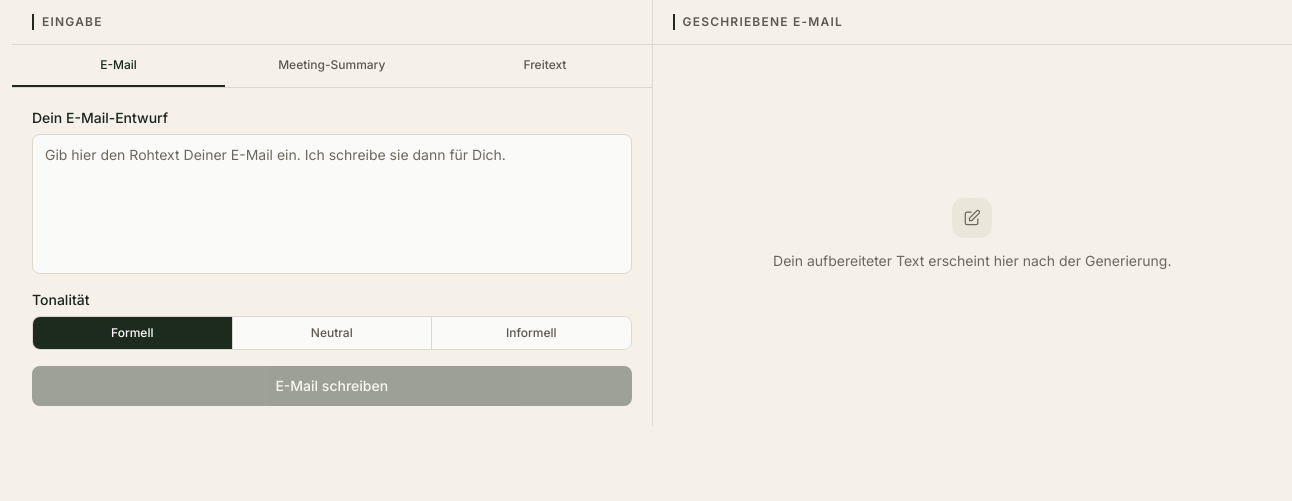
Test: TextPolisherPage — Clear › löscht Input und sessionStorage
The image size is (1292, 501).
In the text box labelled "Dein E-Mail-Entwurf": (332, 204) [32,134,632,274], type "Inhalt"
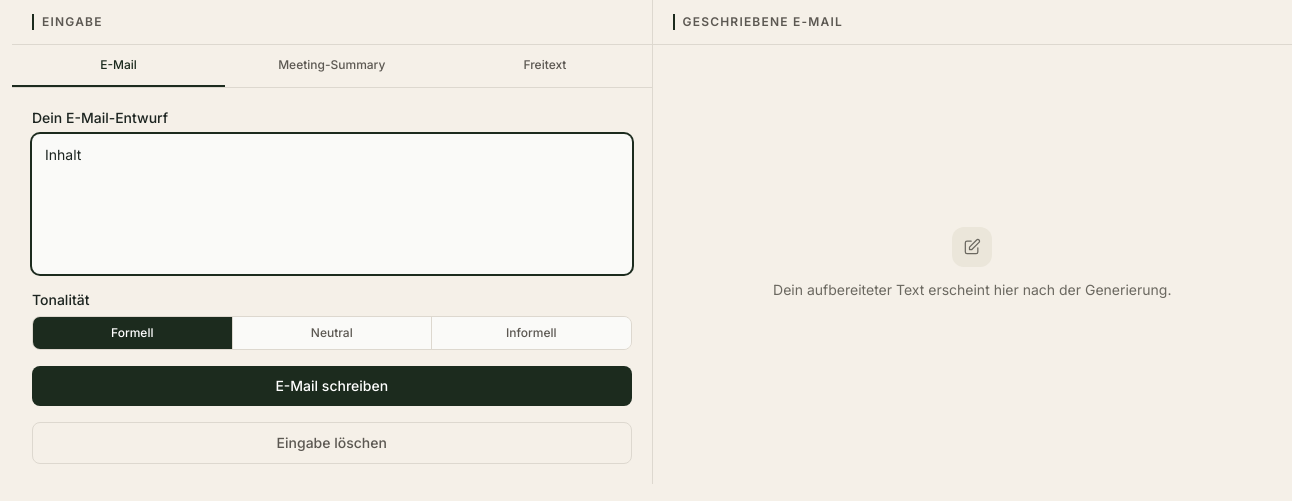
Click the button "Eingabe löschen": click(332, 443) [32,422,632,464]
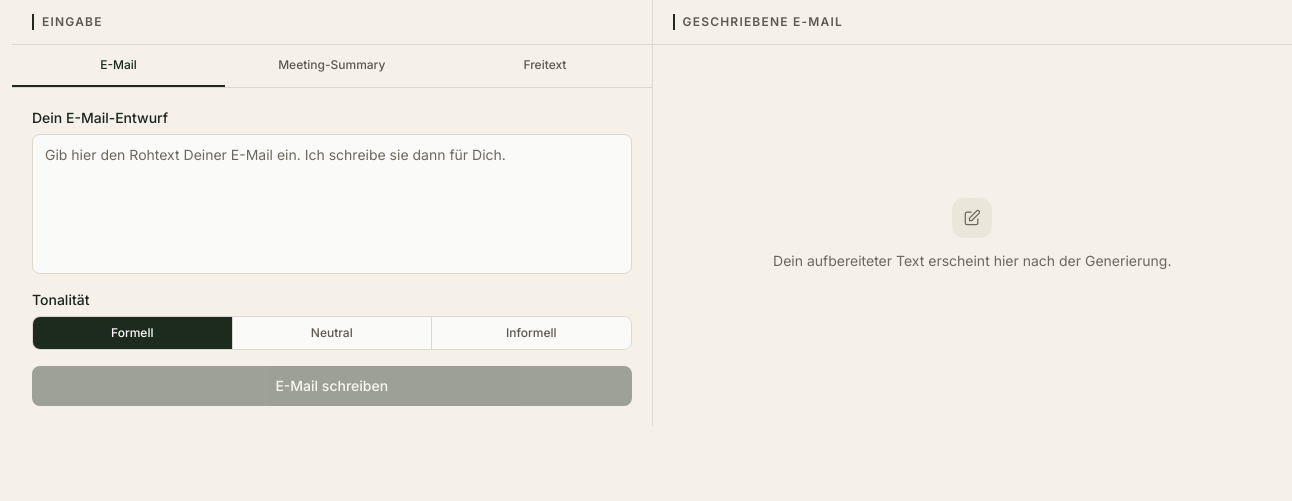
Result: the text box labelled "Dein E-Mail-Entwurf" is empty at [32,134,632,274]
